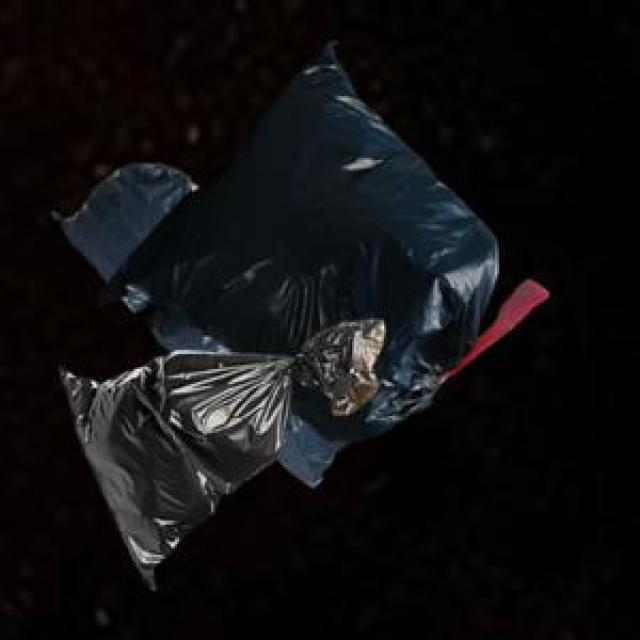waste: (61, 48, 495, 586)
